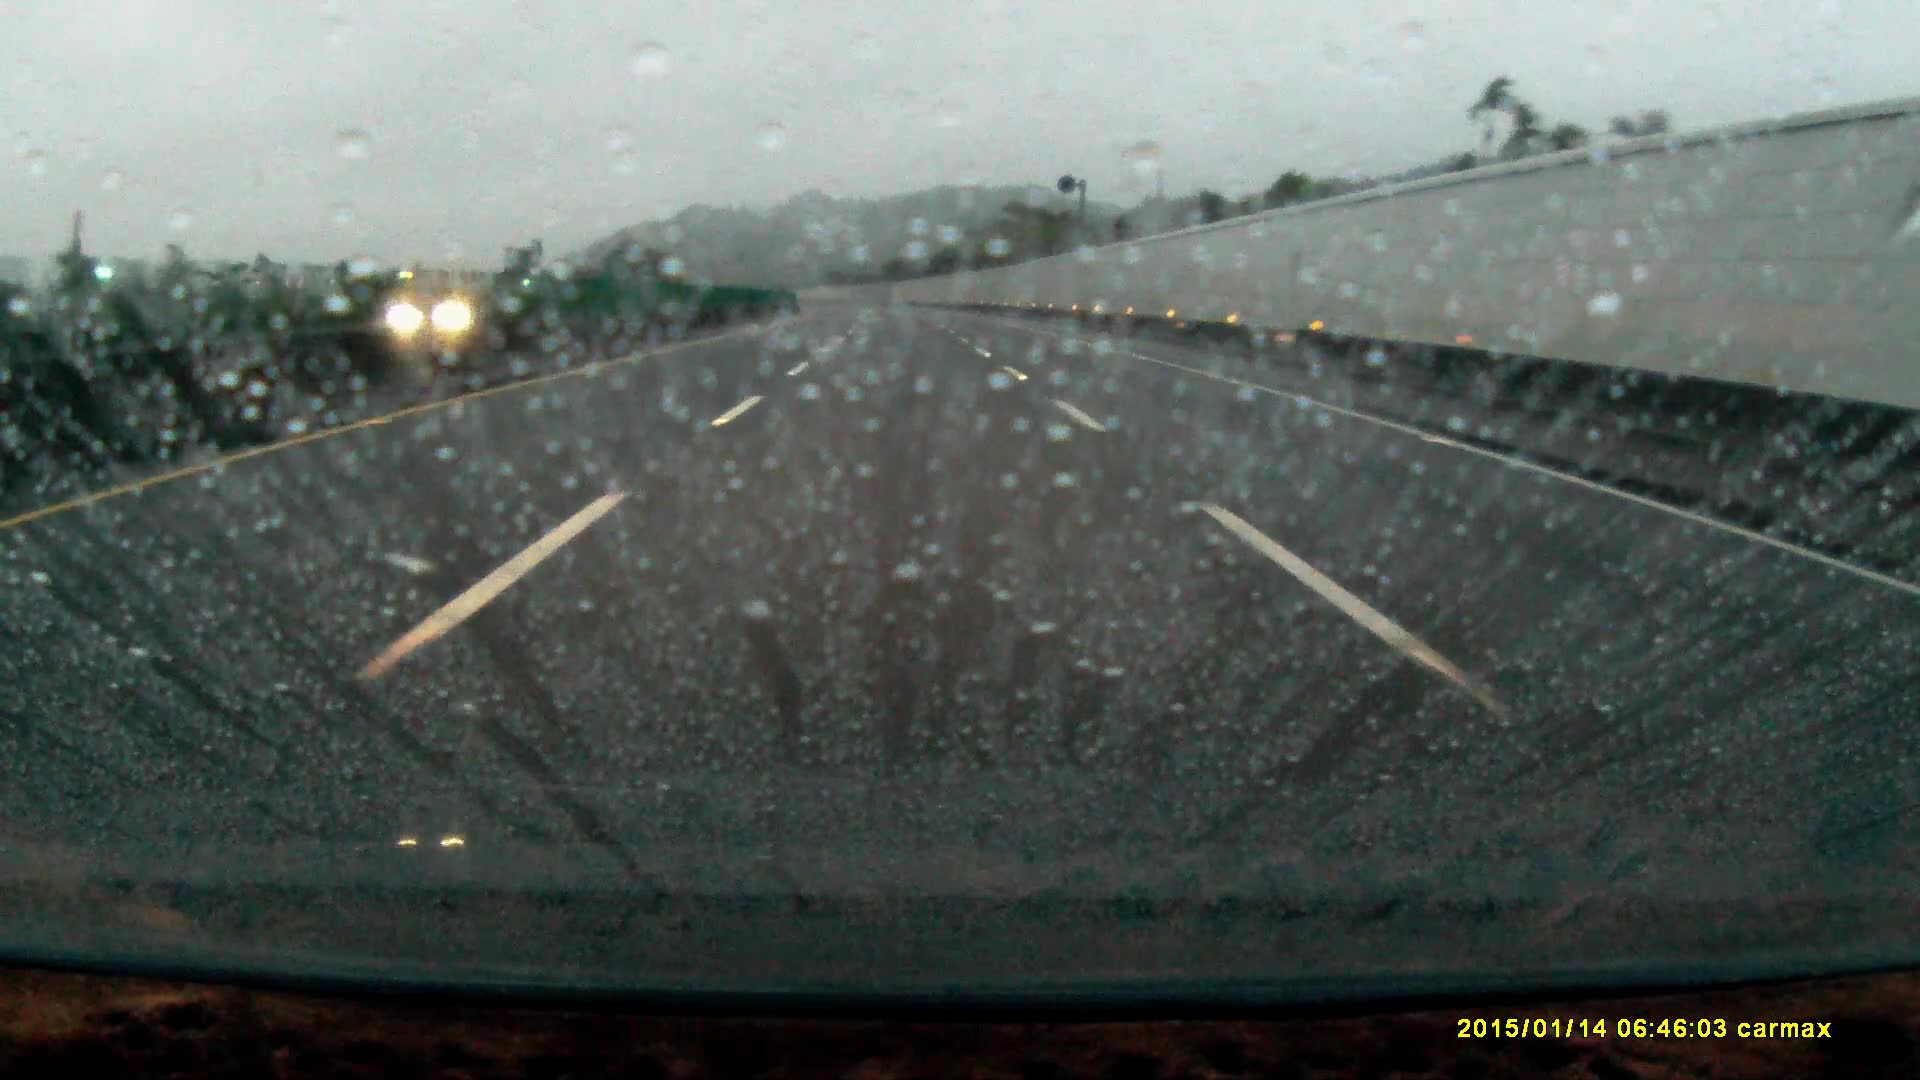vehicle: (382, 290, 477, 334)
